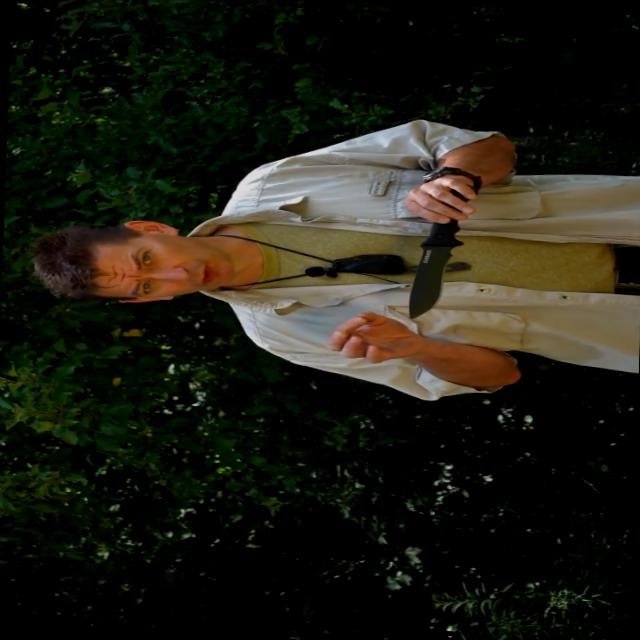knife: (396, 186, 482, 322)
